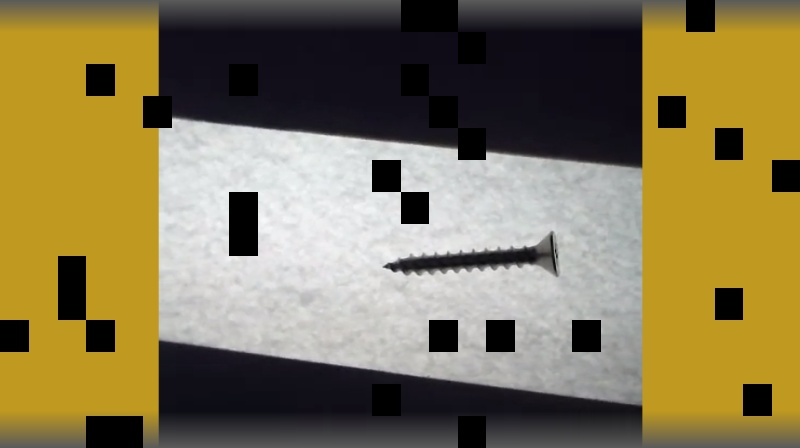S001: (376, 226, 568, 283)
